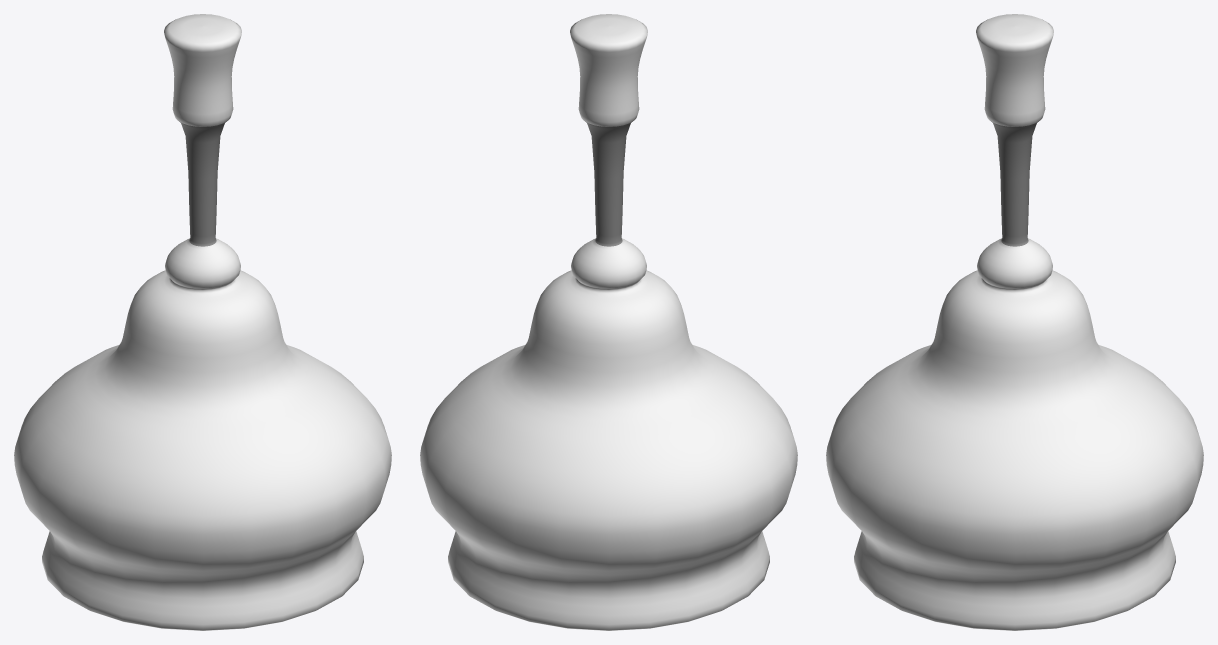
File: sofa.fbx
The picture shows the model from 3 angles, left to right: view 1: azimuth 30°, elevation 25°; view 2: azimuth 150°, elevation 25°; view 3: azimuth 270°, elevation 25°; orthographic projection.
Parts seen in each view (by area): view 1: lamp; view 2: lamp; view 3: lamp.
Boxes of the visible parts, x1=… form: lamp: x1=14, y1=14, x2=391, y2=630; lamp: x1=420, y1=14, x2=797, y2=630; lamp: x1=826, y1=14, x2=1203, y2=630.
Bounding box in the file's own units: 46.45 × 72.97 × 46.45.
3 materials, 2 textured.
